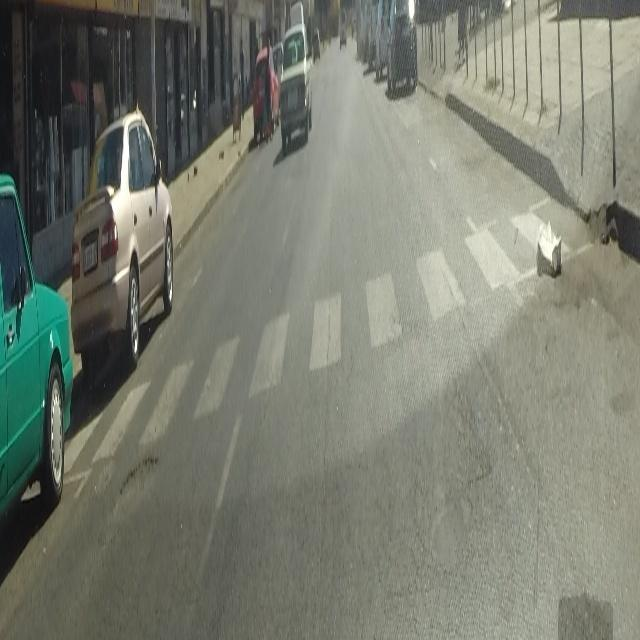pothole: (118, 449, 163, 510)
